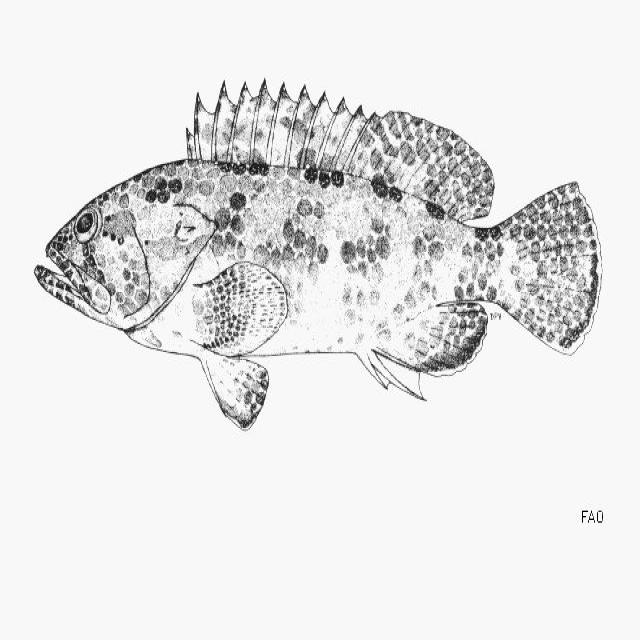ikan: (33, 76, 602, 431)
